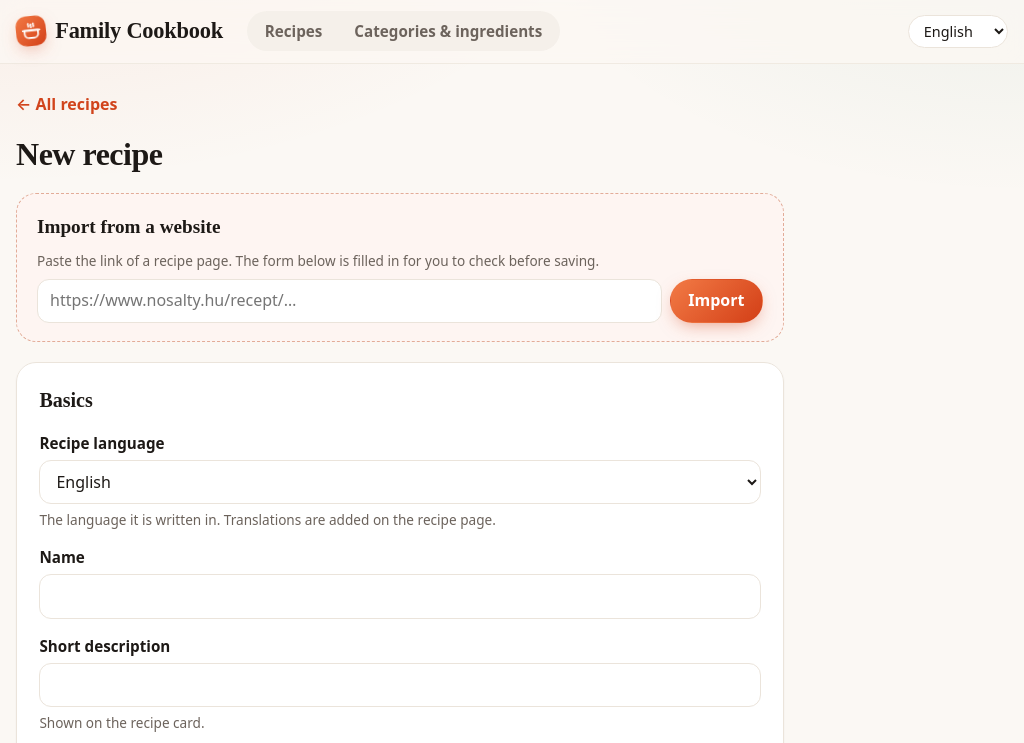
Scenario: importing a recipe from a website › explains BLOCKED
In the field labelled "Import from a website": (349, 301) [37,279,662,323], type "https://site.example/recipe"
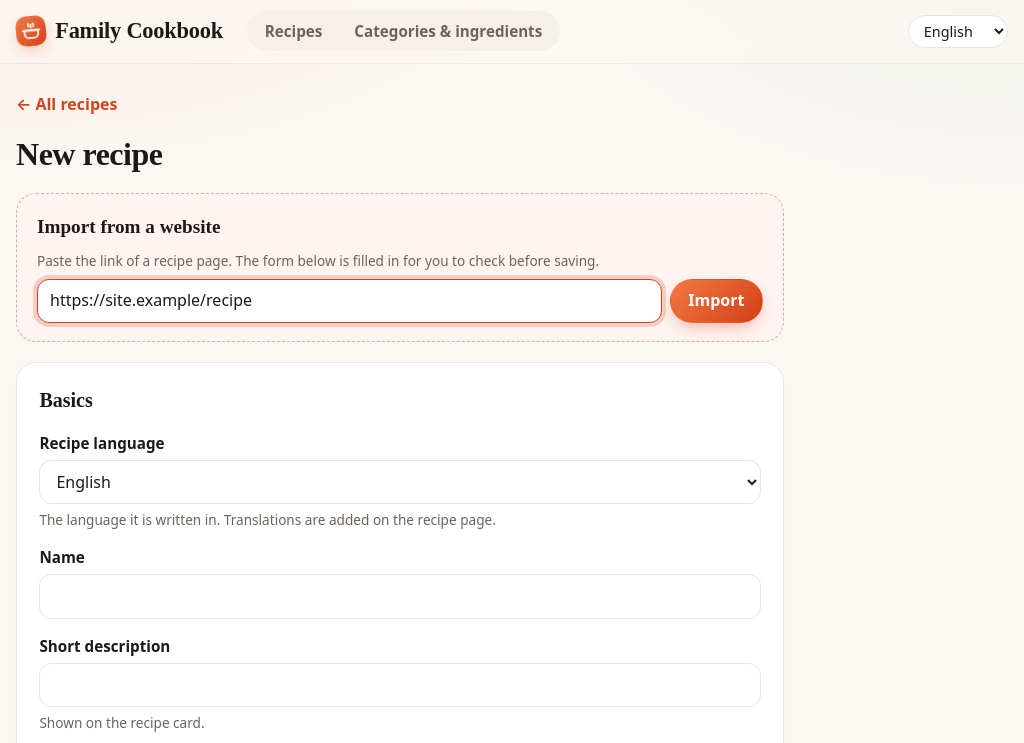
Click the button "Import": (716, 301) [670,279,763,323]
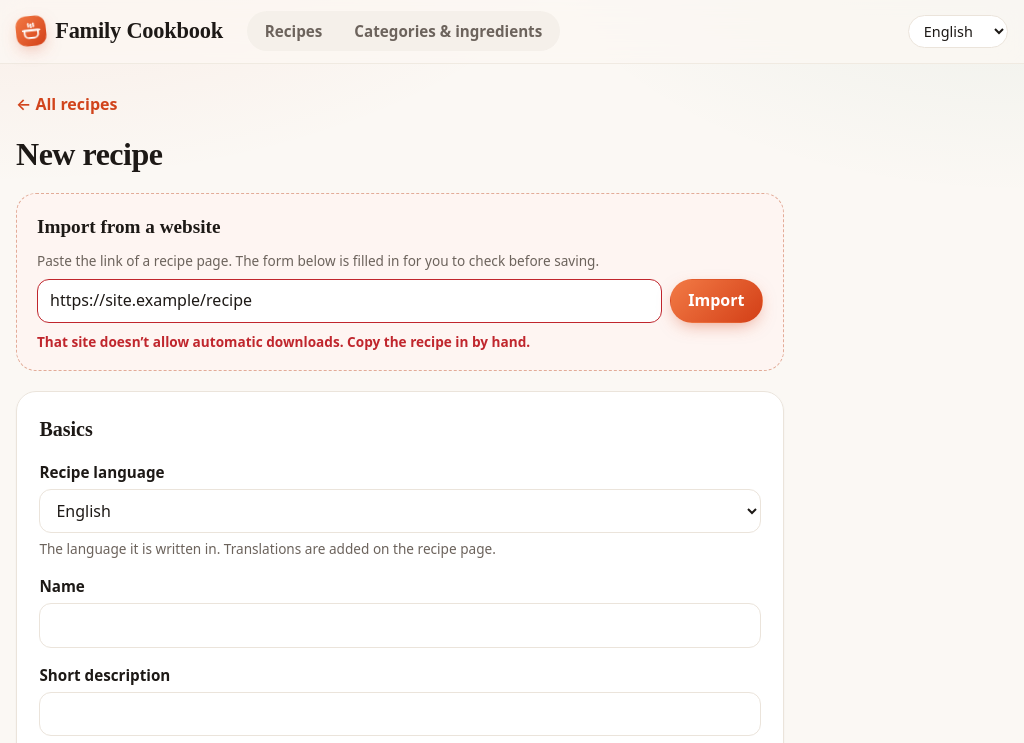
Expected: the field labelled "Name" is empty, [39,603,761,648]
Expected: the message reads "That site doesn’t allow automatic downloads. Copy the recipe in by hand.", [37,332,530,351]
